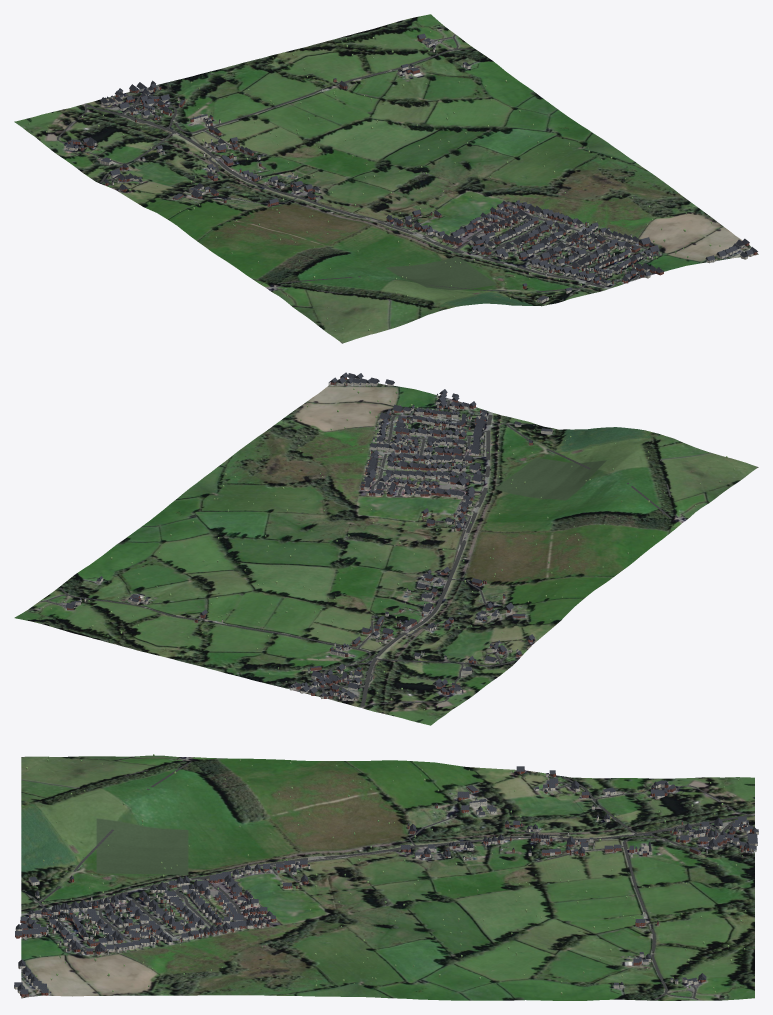
Rendered from howey-terrain-v4.glb.
The picture shows the model from 3 angles, top to bottom: view 1: azimuth 30°, elevation 25°; view 2: azimuth 150°, elevation 25°; view 3: azimuth 270°, elevation 25°; orthographic projection. The views are drawn at different scales.
Parts seen in each view (by area): view 1: Terrain_3D, Roofs, Buildings_OSM, Roads, Trees; view 2: Terrain_3D, Roofs, Buildings_OSM, Roads, Trees; view 3: Terrain_3D, Roofs, Buildings_OSM, Roads, Trees.
Boxes of the visible parts, <box> form: Terrain_3D: <box>14,14,758,343</box>; Roofs: <box>69,33,757,290</box>; Buildings_OSM: <box>64,38,757,303</box>; Roads: <box>57,26,647,299</box>; Trees: <box>28,29,720,332</box>; Terrain_3D: <box>14,379,758,725</box>; Roofs: <box>65,372,534,699</box>; Buildings_OSM: <box>67,377,552,700</box>; Roads: <box>30,400,678,706</box>; Trees: <box>42,385,741,717</box>; Terrain_3D: <box>21,755,754,1000</box>; Roofs: <box>14,766,758,994</box>; Buildings_OSM: <box>14,770,758,996</box>; Roads: <box>25,759,751,999</box>; Trees: <box>25,754,746,994</box>.
Size of the model in its own units: 1101 by 195 by 1523.
10 materials, 5 textured.
